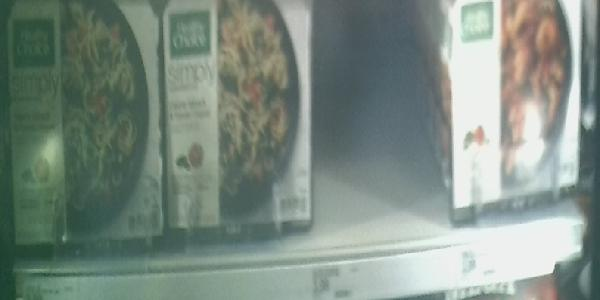pizza1: (5, 1, 165, 246), (163, 1, 315, 236), (445, 1, 582, 206)
